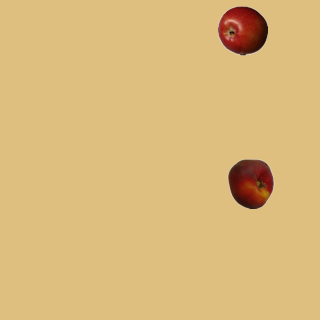Apple Braeburn: (217, 5, 267, 55)
Nectarine Flat: (225, 158, 275, 208)
